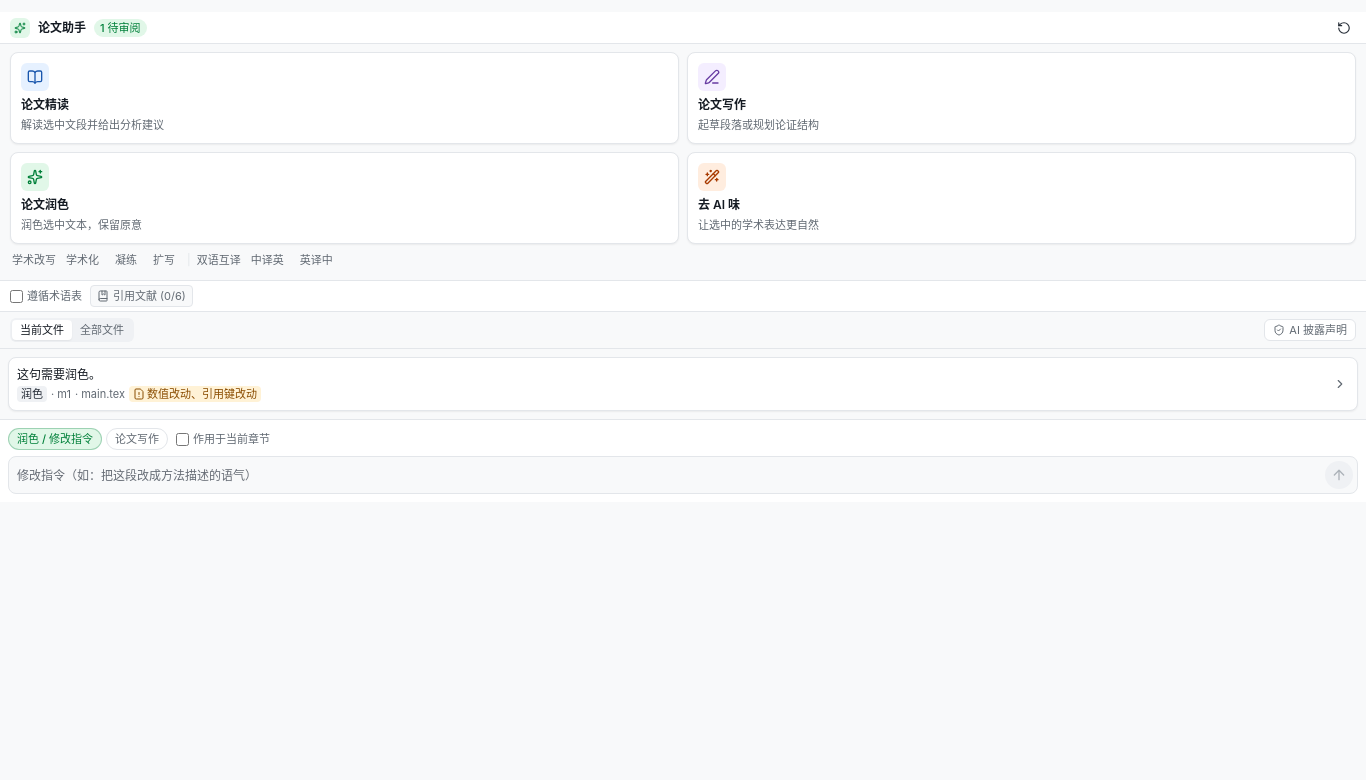
Test: ProposalPanel › 保护标记：未勾选确认时采纳按钮禁用
Click the button named "展开差异": (1340, 384) top-left (1331, 375), bottom-right (1349, 393)
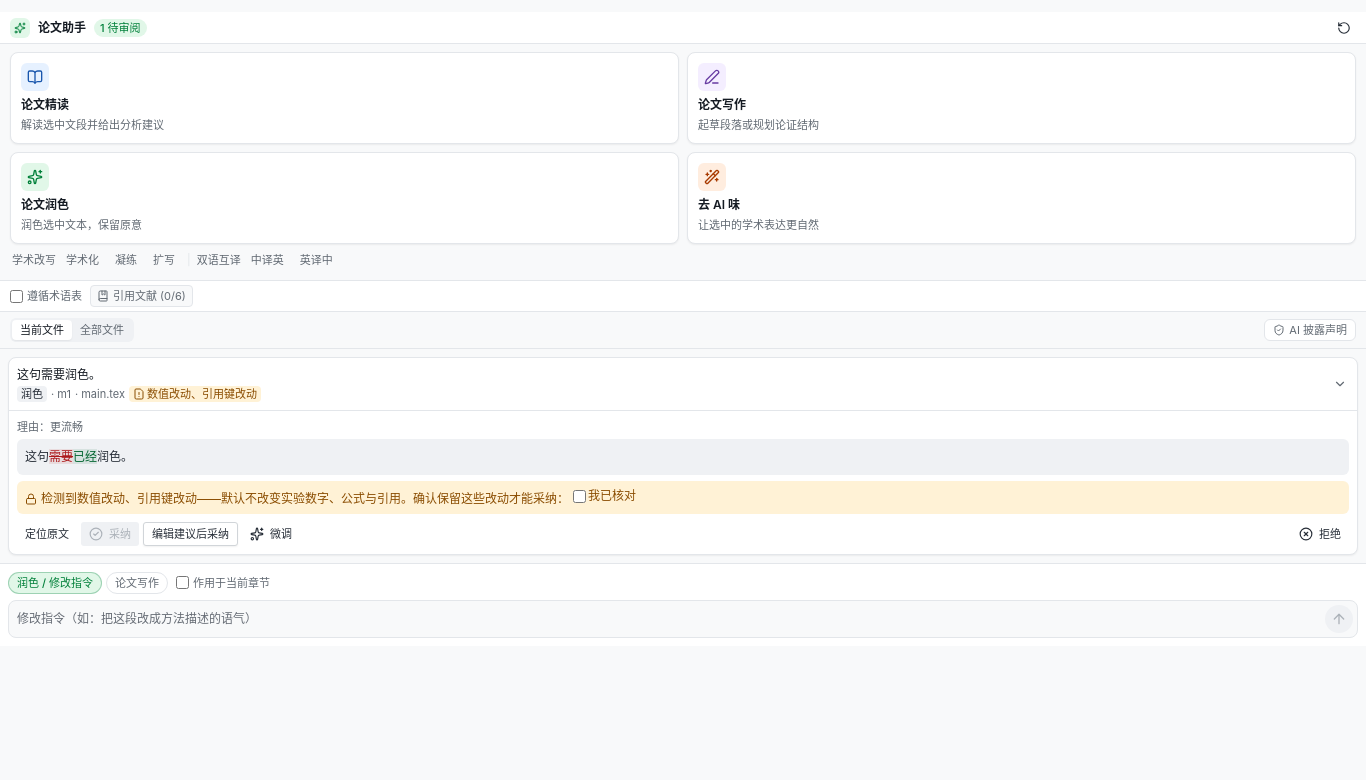
expect the button with test id "proposal-apply-pp_aaaaaaaaaaaa" is disabled: met, box top-left (81, 522), bottom-right (139, 546)
Click the checkbox with test id "proposal-ack-pp_aaaaaaaaaaaa": (580, 496) top-left (573, 490), bottom-right (586, 502)
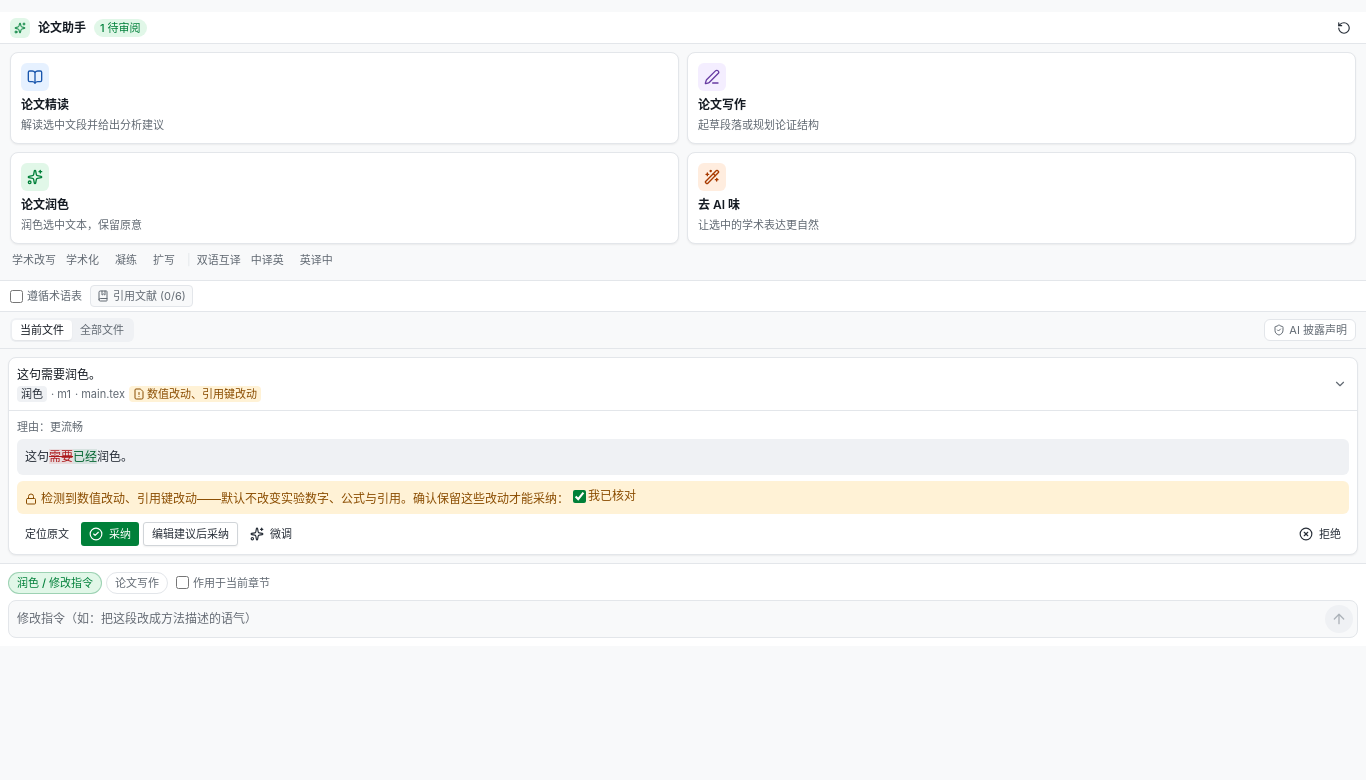
expect the button with test id "proposal-apply-pp_aaaaaaaaaaaa" is enabled: met, box top-left (81, 522), bottom-right (139, 546)
